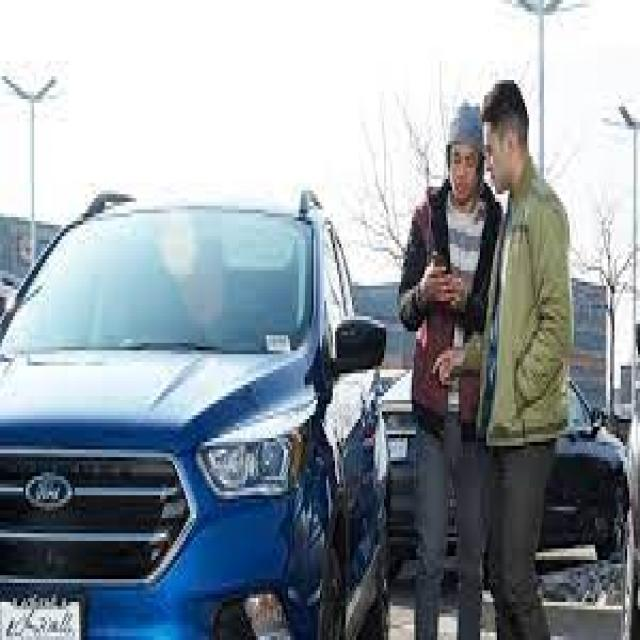car: (0, 190, 393, 640)
person: (396, 106, 490, 640), (484, 76, 572, 640)
